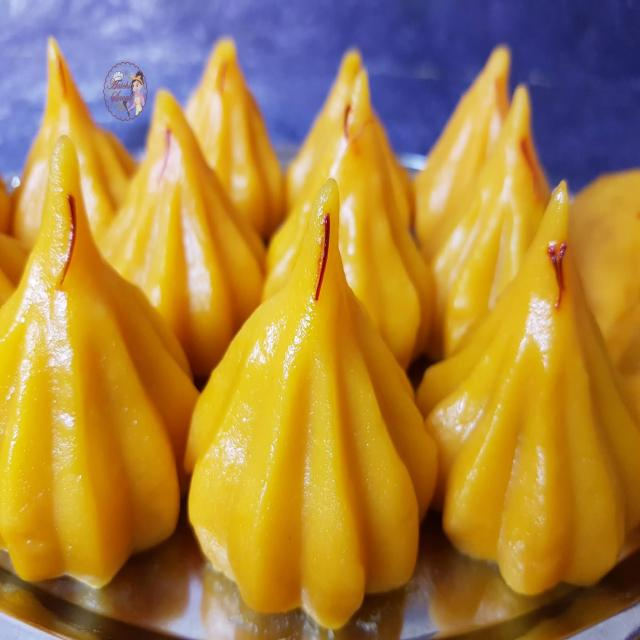modak: (1, 33, 640, 623)
